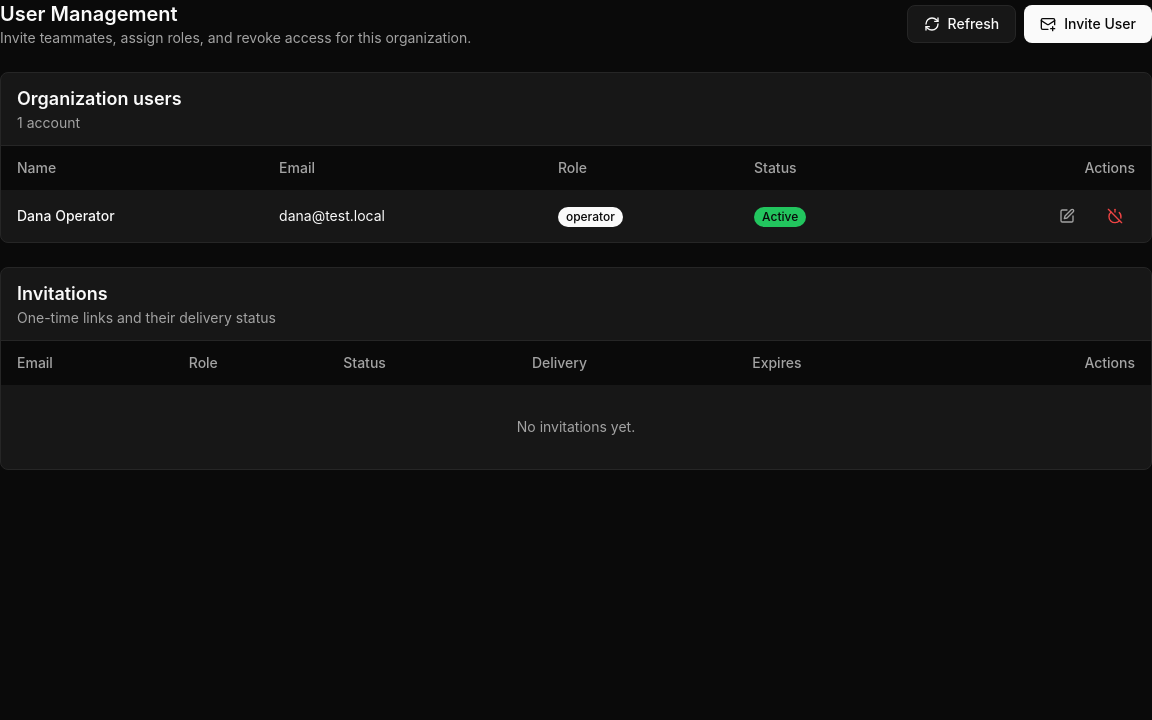
UsersPage — a failed write does not pass for a successful one › tells the admin when a user could not be provisioned
Expected: the text "Dana Operator" is shown, [1,190,263,242]
Click the button "Invite User": (1088, 24) [1024,5,1151,43]
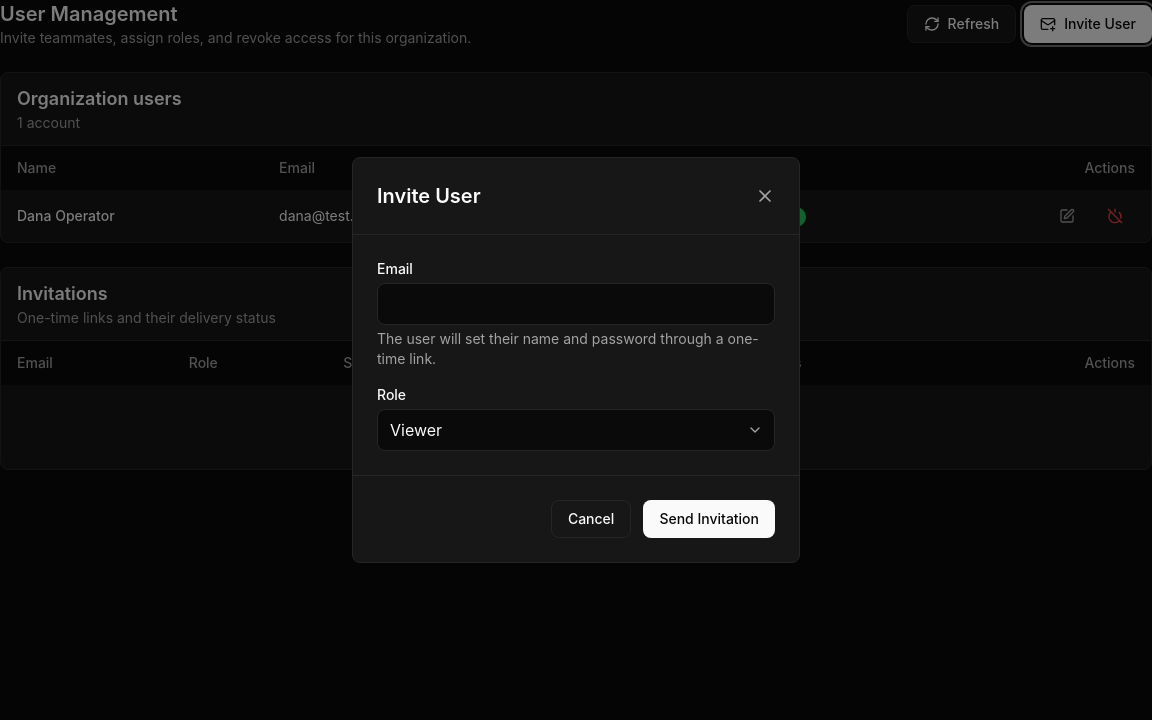
In the field labelled "Email": (576, 304) [377,283,775,325], type "new@test.local"
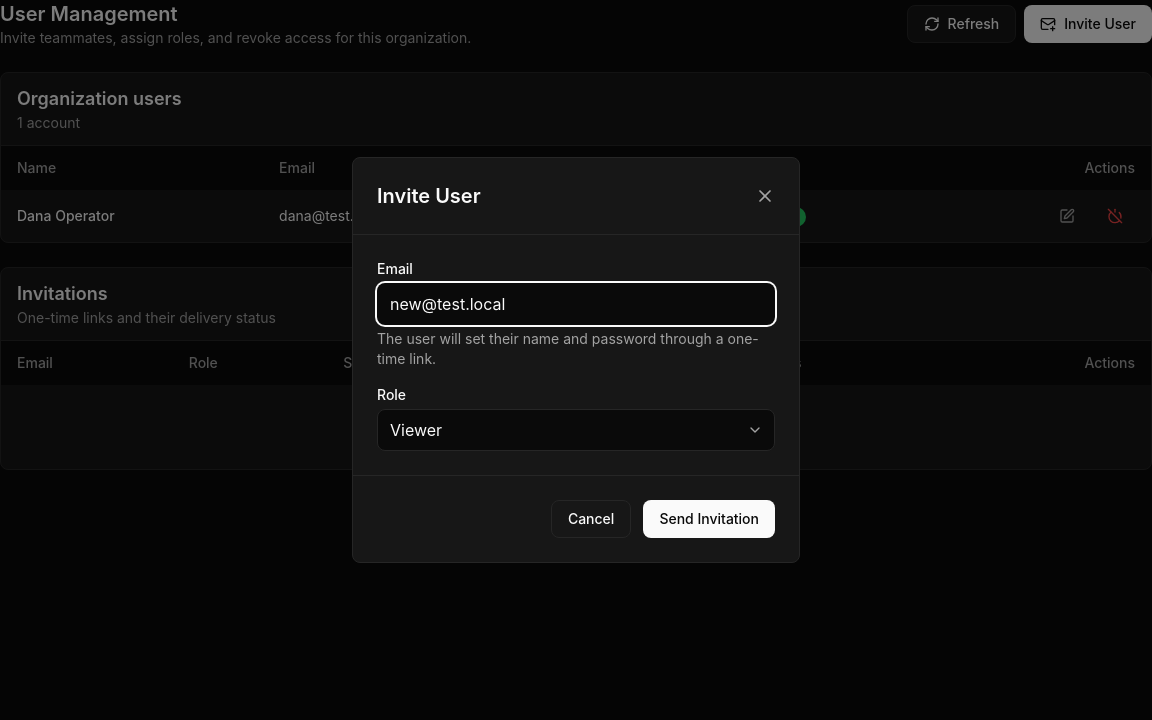
Click the button "Send Invitation": (709, 519) [643,500,775,538]
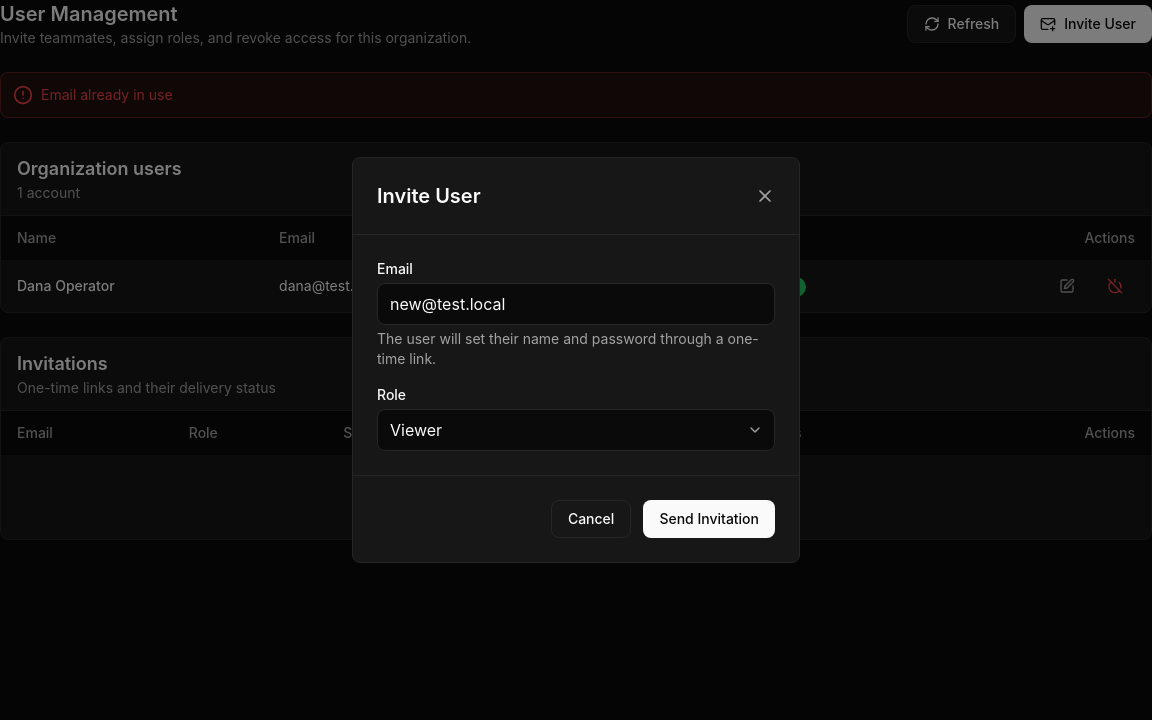
Now the text "Email already in use" is shown, box [41,85,173,105]
